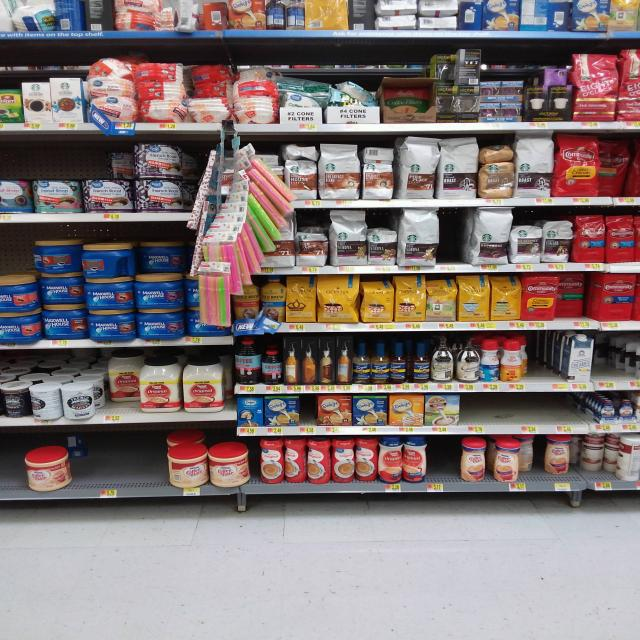void: (74, 428, 125, 498), (124, 427, 160, 497), (0, 428, 27, 504), (464, 393, 511, 435), (440, 207, 469, 273), (525, 333, 556, 392), (550, 394, 586, 434), (512, 395, 546, 435)
